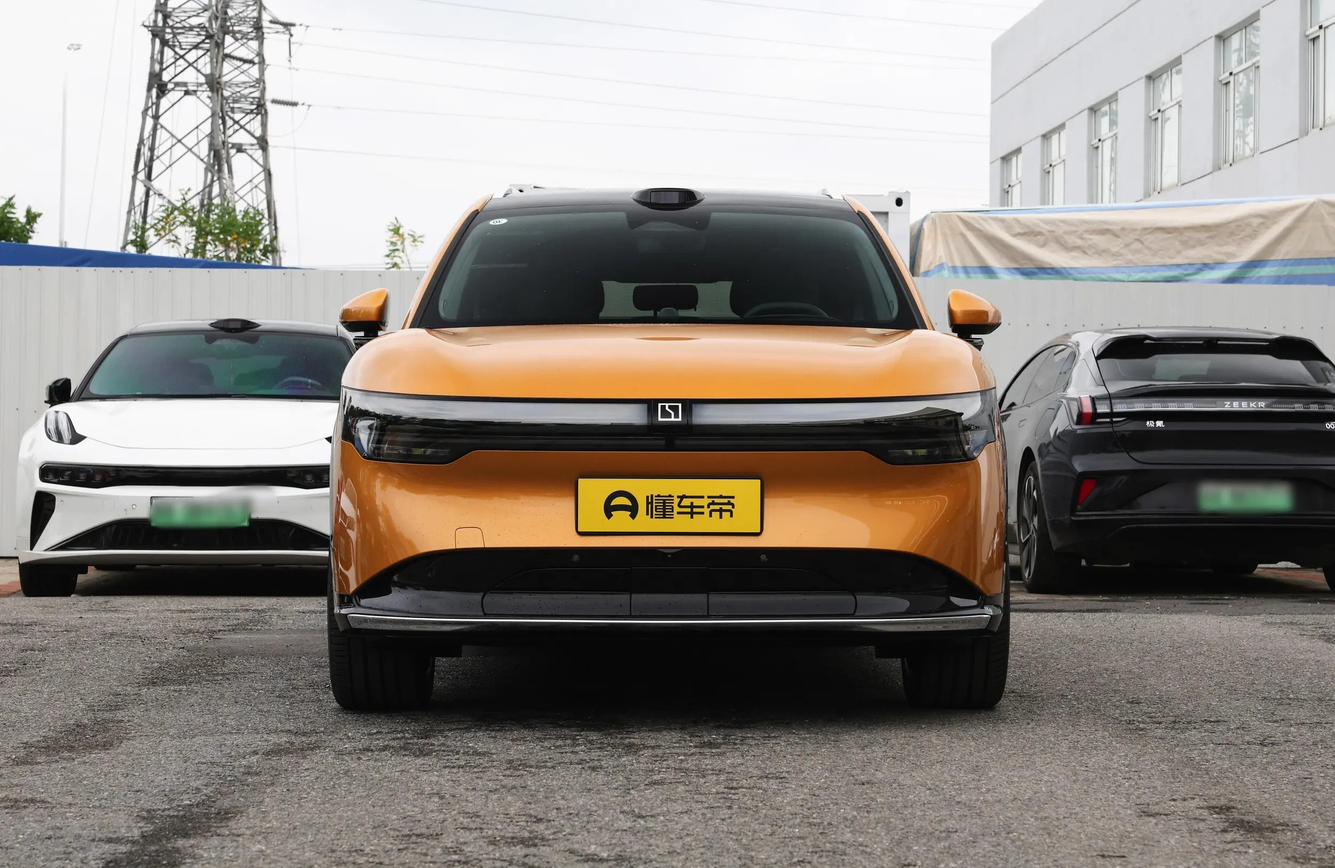ZEEKR: (659, 403, 681, 421)
